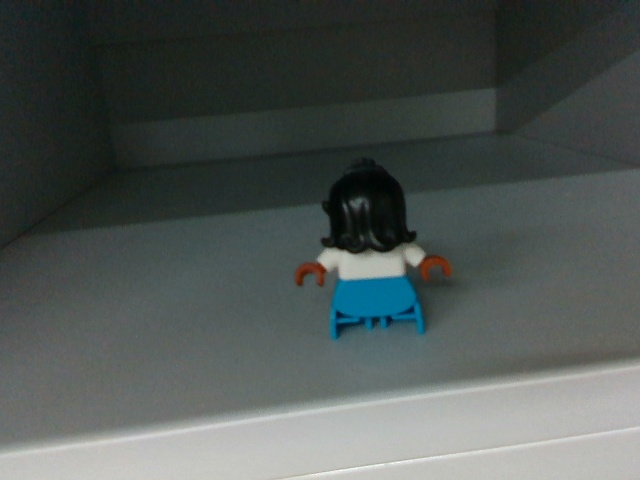people: (295, 158, 453, 345)
